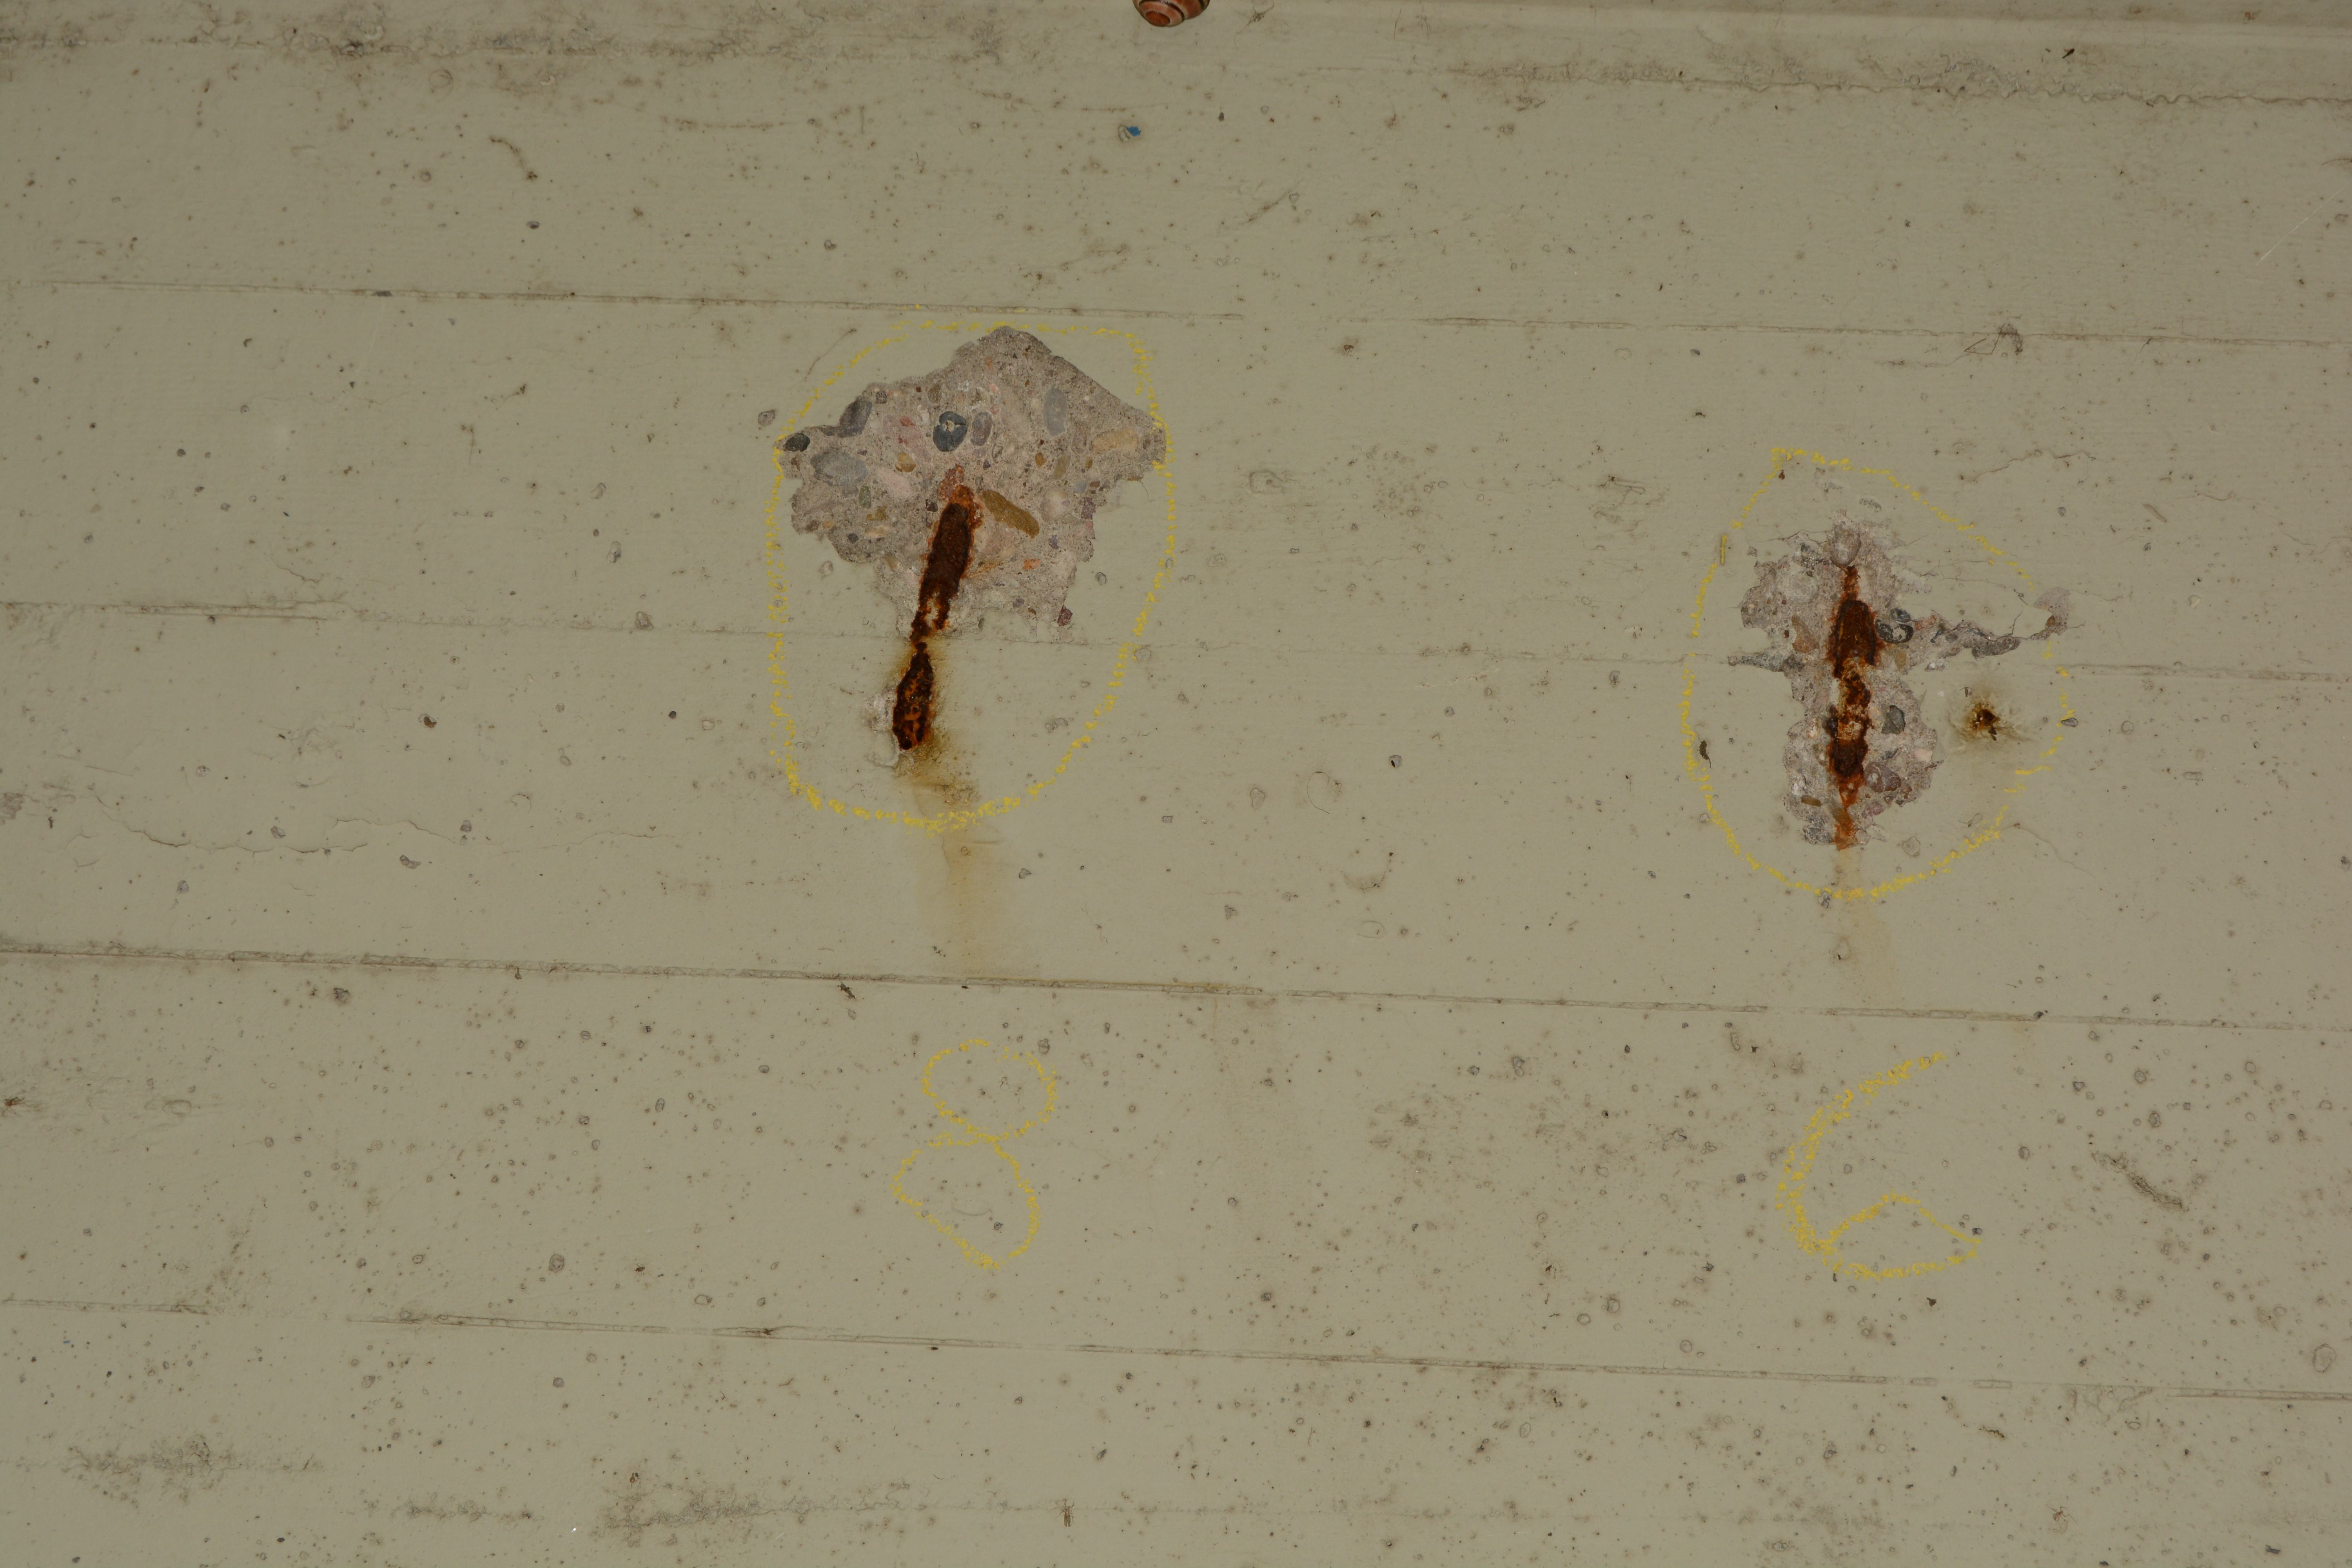Corrosion: (1830, 777, 1869, 852), (1976, 709, 2000, 742), (1843, 563, 1862, 598)
Exposed reinforcement: (892, 506, 973, 751), (1830, 598, 1878, 777)
Spalling: (777, 324, 1167, 639), (1731, 518, 2070, 854)
